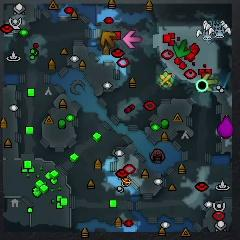Other: (157, 71, 175, 89)
p2Clone: (196, 79, 208, 93)
p3: (217, 115, 234, 139)
x1: (122, 30, 142, 48)
x2: (201, 74, 219, 91)
x4: (174, 40, 191, 58)
x5: (100, 31, 116, 48)
